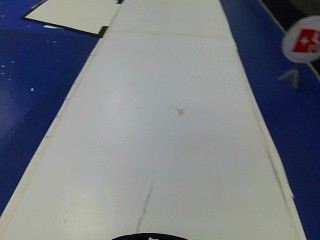battery: (278, 16, 318, 70)
